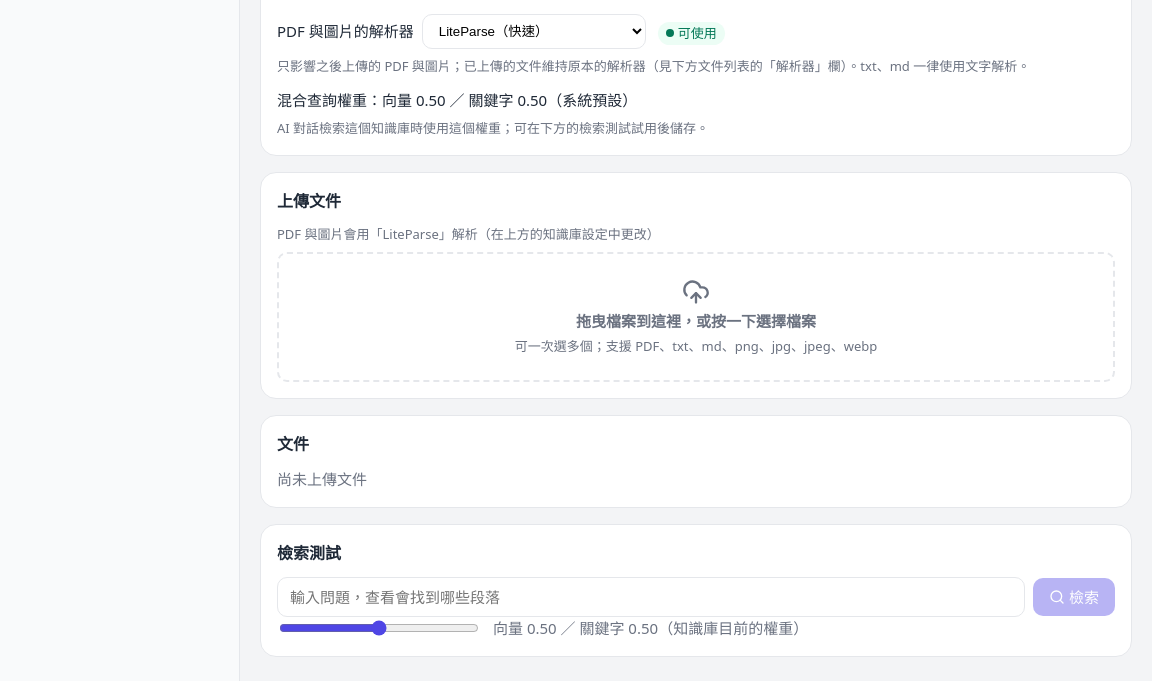
Scenario: KbPage › saves a weight tried in the retrieval test, and goes back to the system default
(page scrolled)
Expected: the text "混合查詢權重：向量 0.50 ／ 關鍵字 0.50（系統預設）" is shown, [277,88,637,111]
Expected: the button "改回系統預設" is not shown
Set the slider named "向量權重" to "0.3" at [342, 628], box [279,620,479,636]
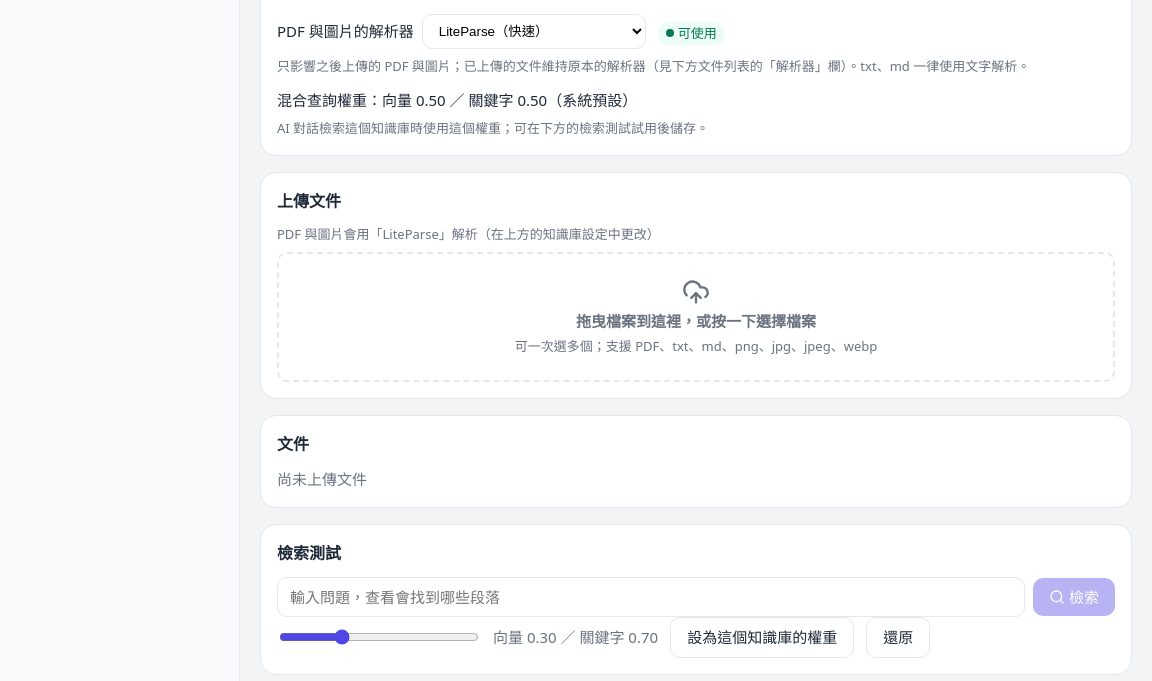
Click the button "設為這個知識庫的權重" at [762, 637], box [670,617,854,658]
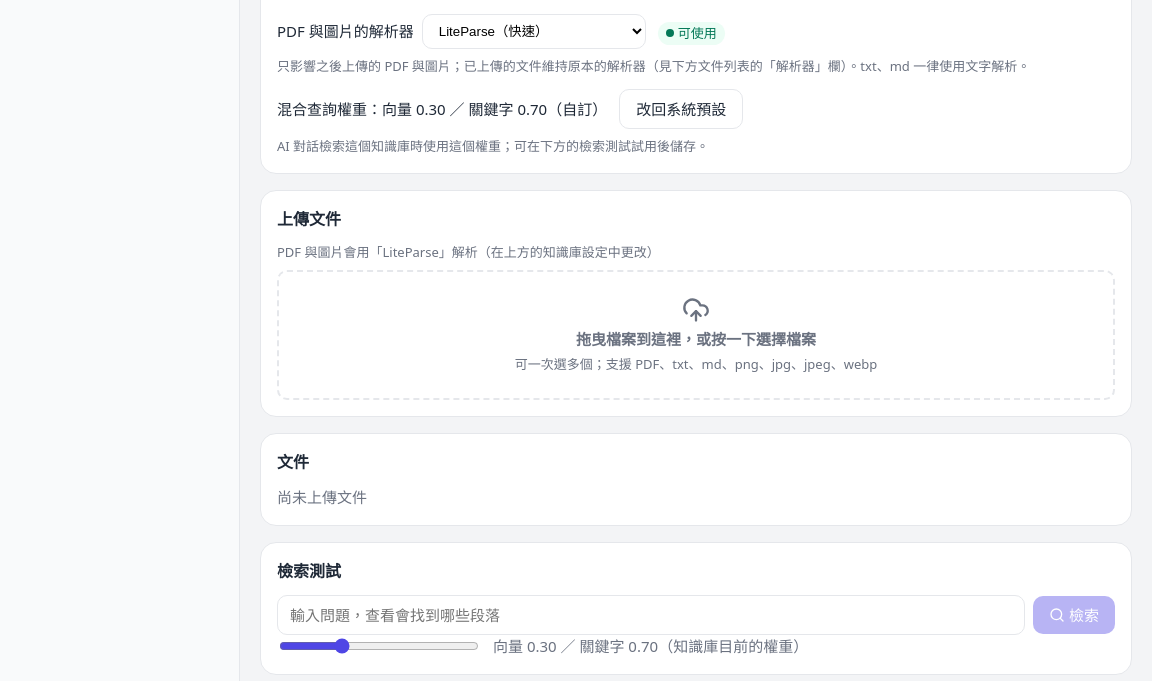
Result: the text "混合查詢權重：向量 0.30 ／ 關鍵字 0.70（自訂）" is shown at [277,98,607,120]
Result: the text "向量 0.30 ／ 關鍵字 0.70（知識庫目前的權重）" is shown at [493,635,808,658]
Click the button "改回系統預設" at [681, 109], box [619,88,743,129]
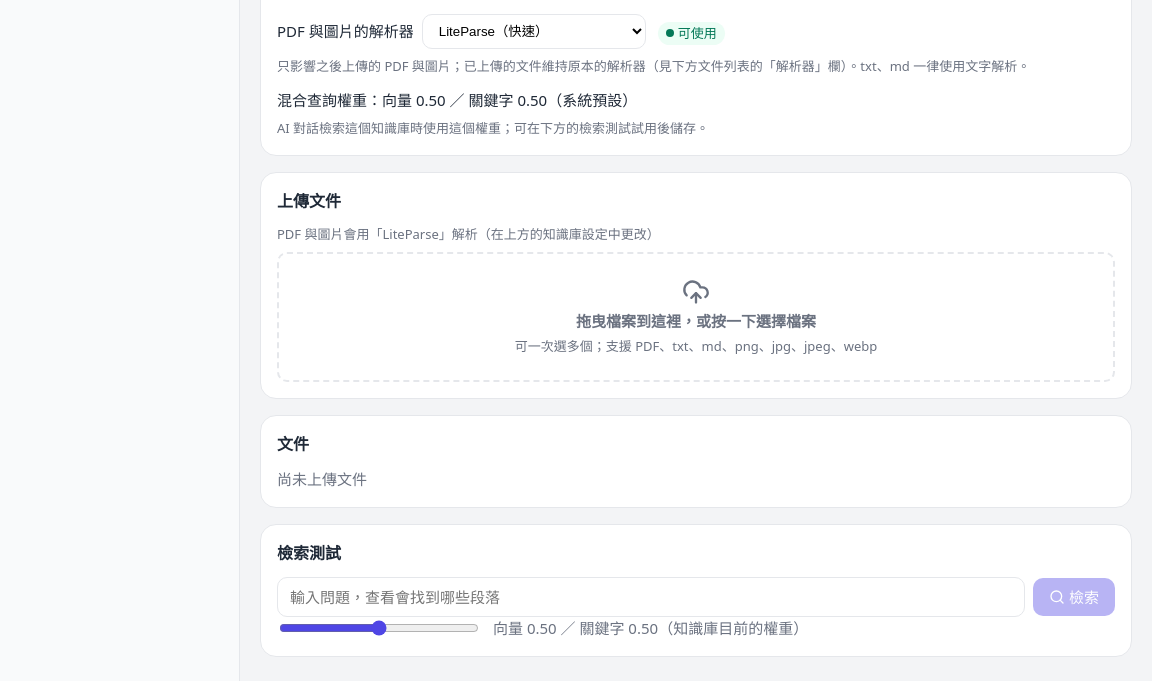
Result: the slider named "向量權重" holds "0.5" at [279,620,479,636]
